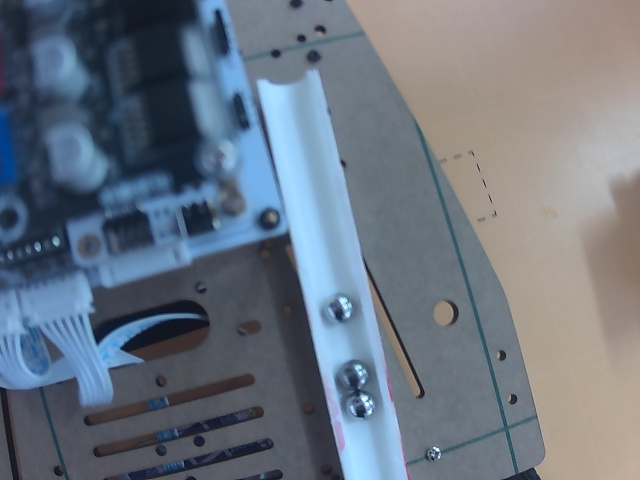steelball: (336, 359, 369, 390), (343, 391, 376, 421), (324, 295, 352, 323)
